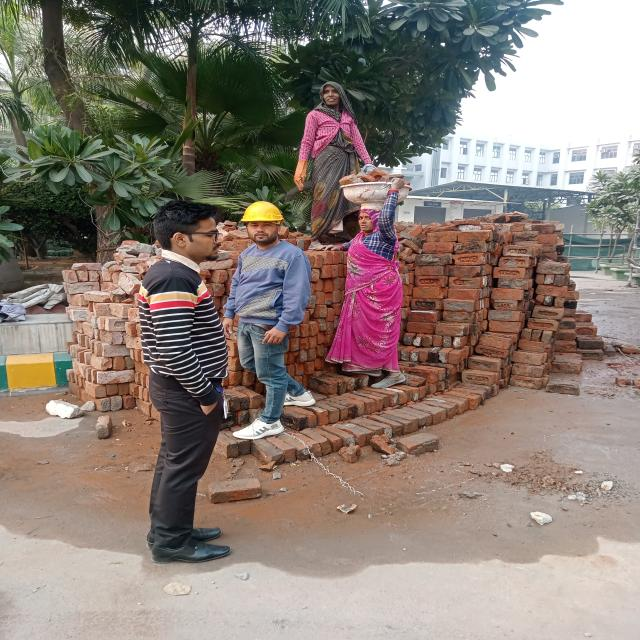no jacket: (224, 197, 312, 440)
unsafe: (132, 196, 236, 566), (333, 168, 407, 382), (294, 80, 378, 245)
